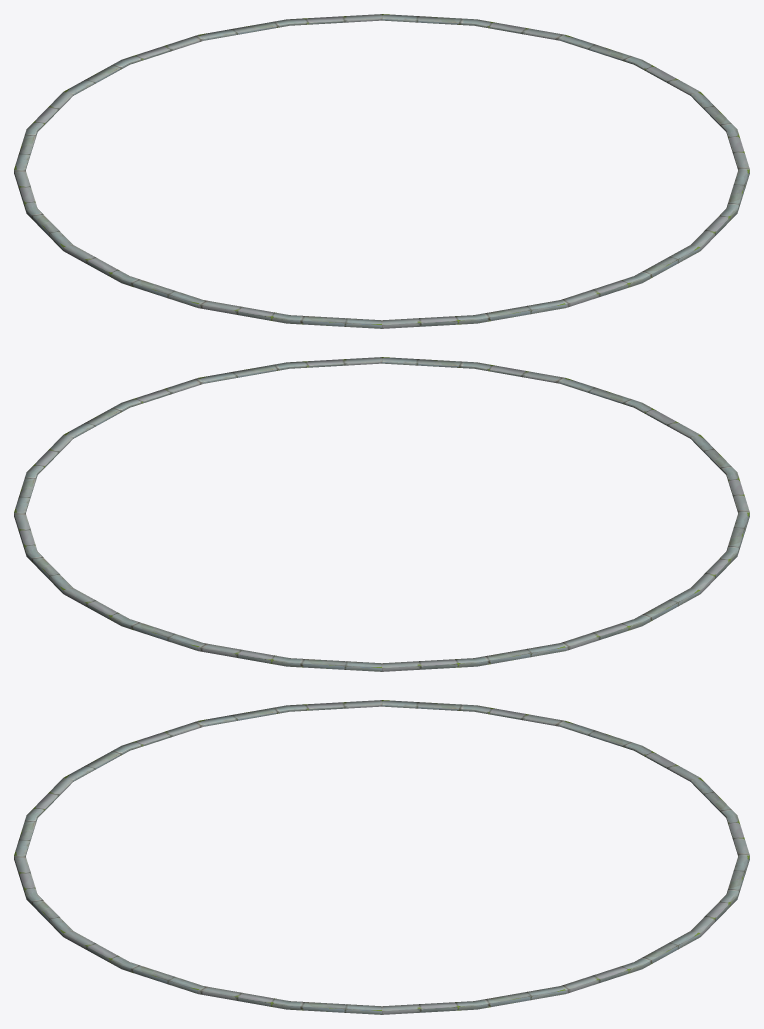
The model's file is Map_06_brick14.FBX.
3 views of the same model, one above another, from view 1: azimuth 30°, elevation 25°; view 2: azimuth 150°, elevation 25°; view 3: azimuth 270°, elevation 25° (orthographic).
Visible parts, largest first — view 1: Map_06_brick14; view 2: Map_06_brick14; view 3: Map_06_brick14.
Boxes of the visible parts, left/top/right/bottom form: Map_06_brick14: left=14, top=14, right=749, bottom=328; Map_06_brick14: left=14, top=357, right=749, bottom=671; Map_06_brick14: left=14, top=700, right=749, bottom=1014.
Size of the model in its own units: 4804 by 4804 by 27.55.
